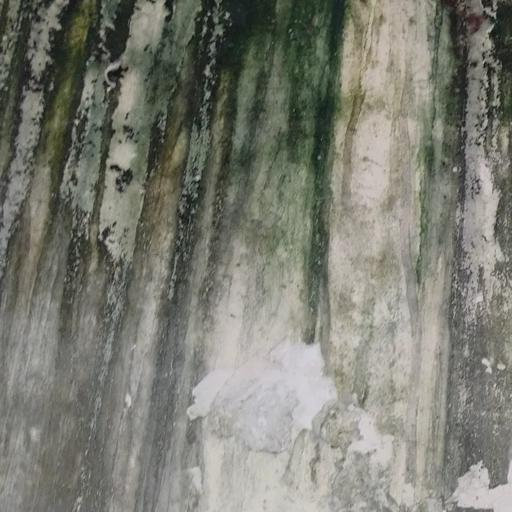algae: (0, 0, 435, 356)
